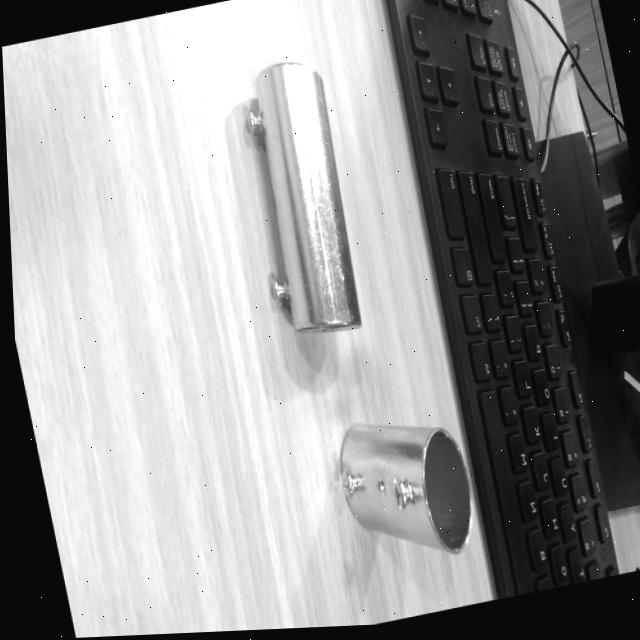Co_Lon: (237, 57, 361, 340)
Co_Nho: (335, 423, 477, 555)
